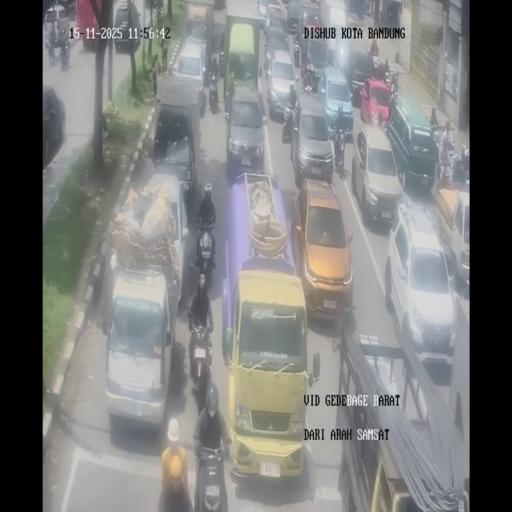car: (225, 266, 312, 484), (103, 266, 176, 431), (385, 205, 455, 369), (292, 176, 354, 324), (351, 118, 402, 228), (151, 96, 200, 203), (288, 90, 334, 186), (225, 88, 265, 176), (174, 41, 208, 109), (264, 49, 296, 121), (41, 86, 66, 165), (348, 50, 379, 104), (112, 1, 142, 55), (303, 38, 330, 90), (44, 5, 70, 49), (264, 18, 289, 60), (303, 10, 321, 40), (256, 0, 275, 26), (286, 0, 301, 32), (326, 40, 342, 70)
motorcycle: (192, 434, 230, 508), (186, 316, 214, 408), (158, 466, 193, 512), (194, 228, 217, 292), (450, 152, 470, 189), (437, 150, 452, 188), (333, 134, 346, 177), (208, 76, 219, 112), (298, 29, 308, 67), (429, 116, 440, 150), (218, 36, 226, 78), (387, 68, 399, 94), (224, 86, 232, 124), (60, 44, 71, 70), (264, 46, 270, 73), (293, 30, 300, 48), (379, 10, 385, 23)
